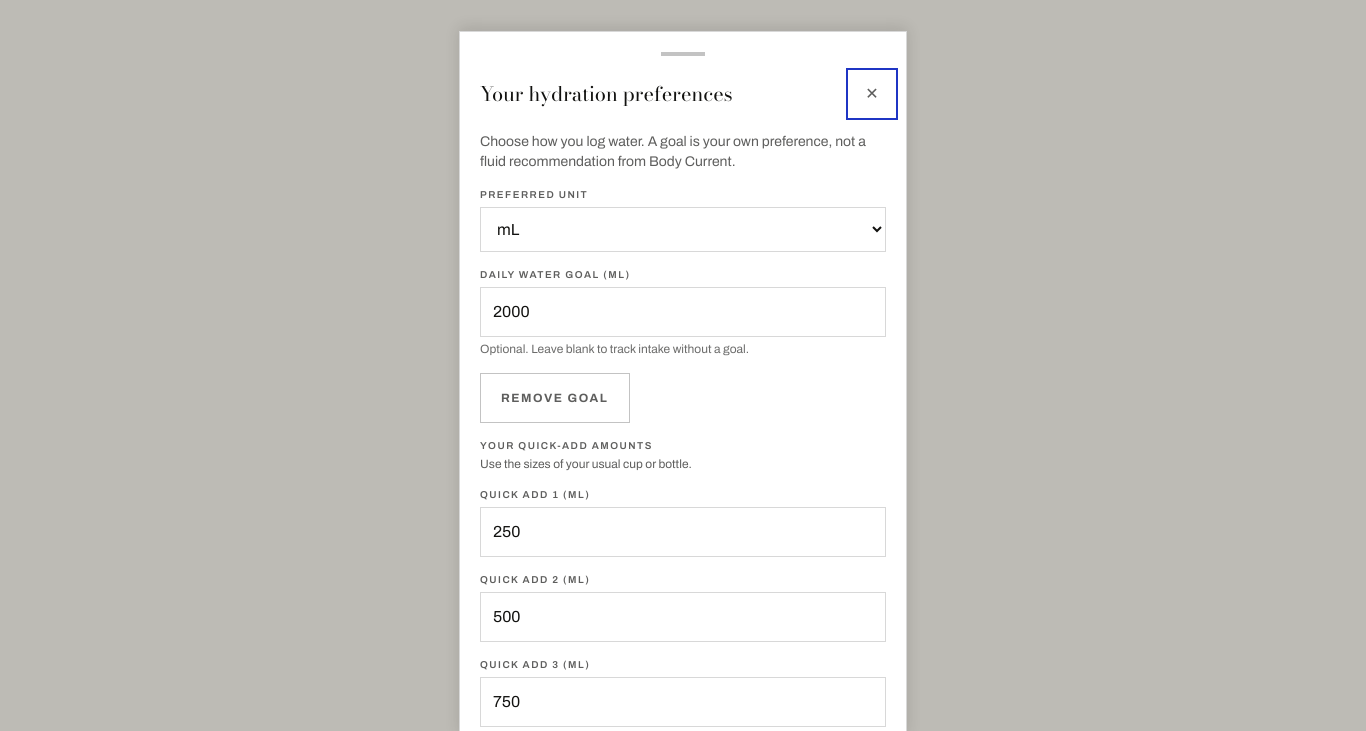
it: can remove goal and preserves edits after server failure
Click the button "Remove goal" at (555, 398), box 480,373 -> 630,423
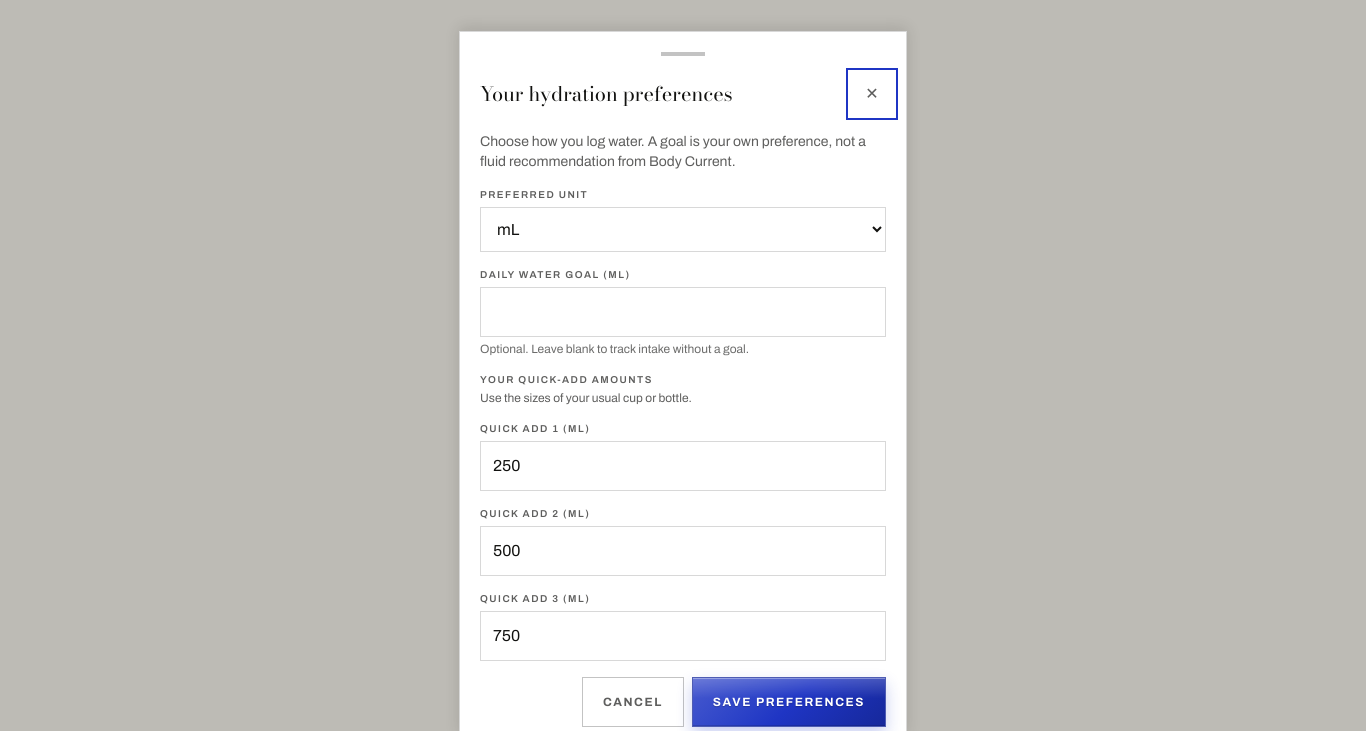
Click the button "Save preferences" at (789, 702), box 692,677 -> 886,727
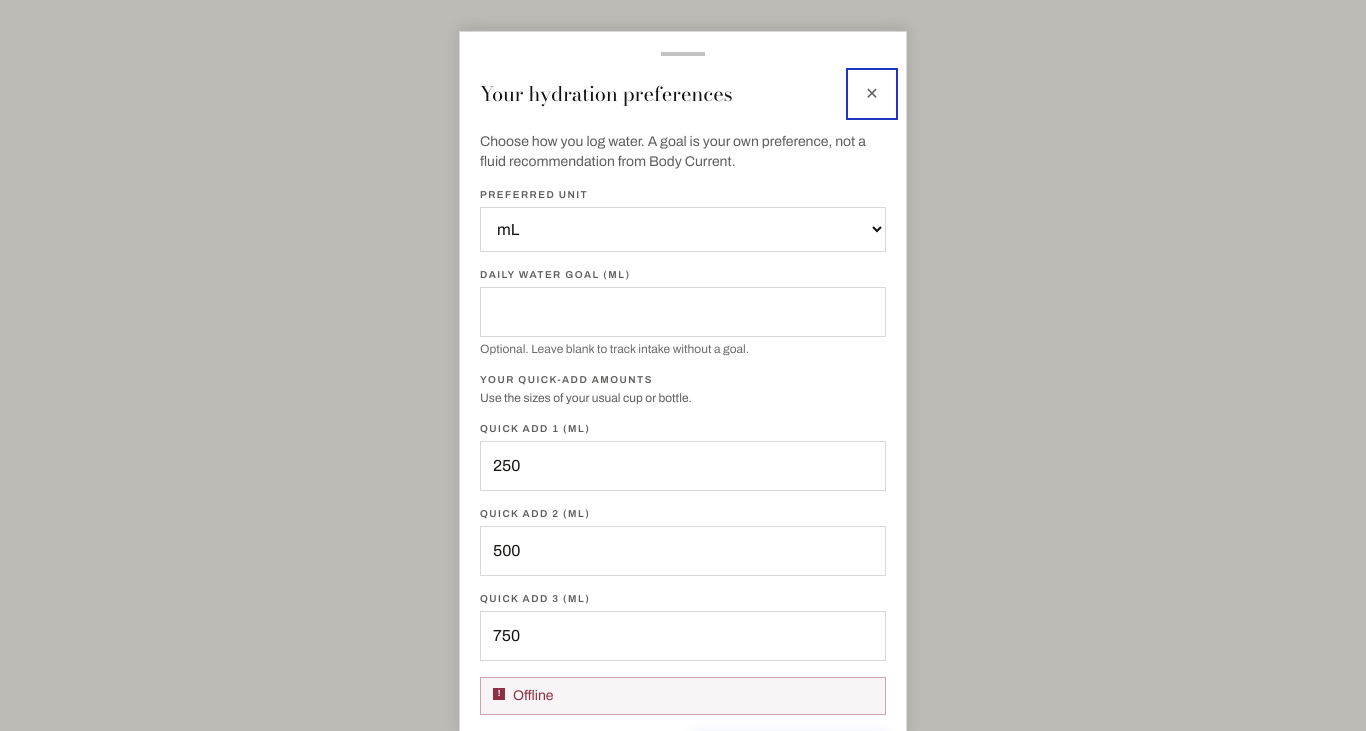
Expected: the 1st field is empty, 480,287 -> 886,337
Expected: the text "Offline" is shown, 513,686 -> 554,706
